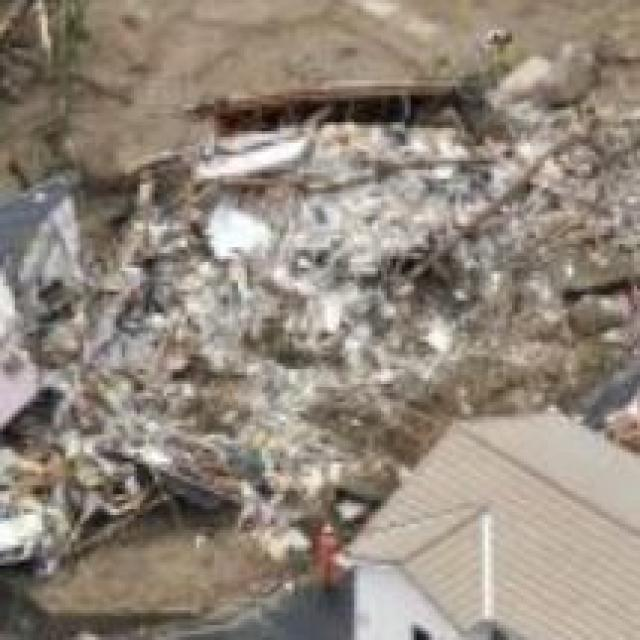collapsed_building: (0, 113, 637, 482)
